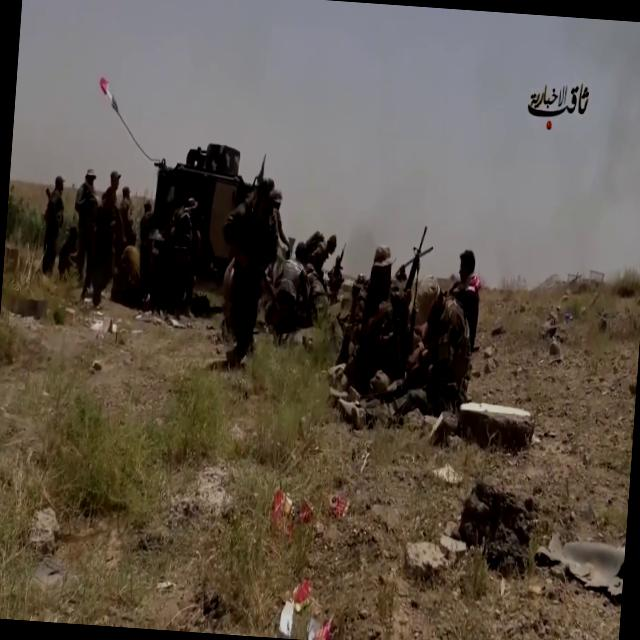long weapon: (384, 216, 440, 361)
